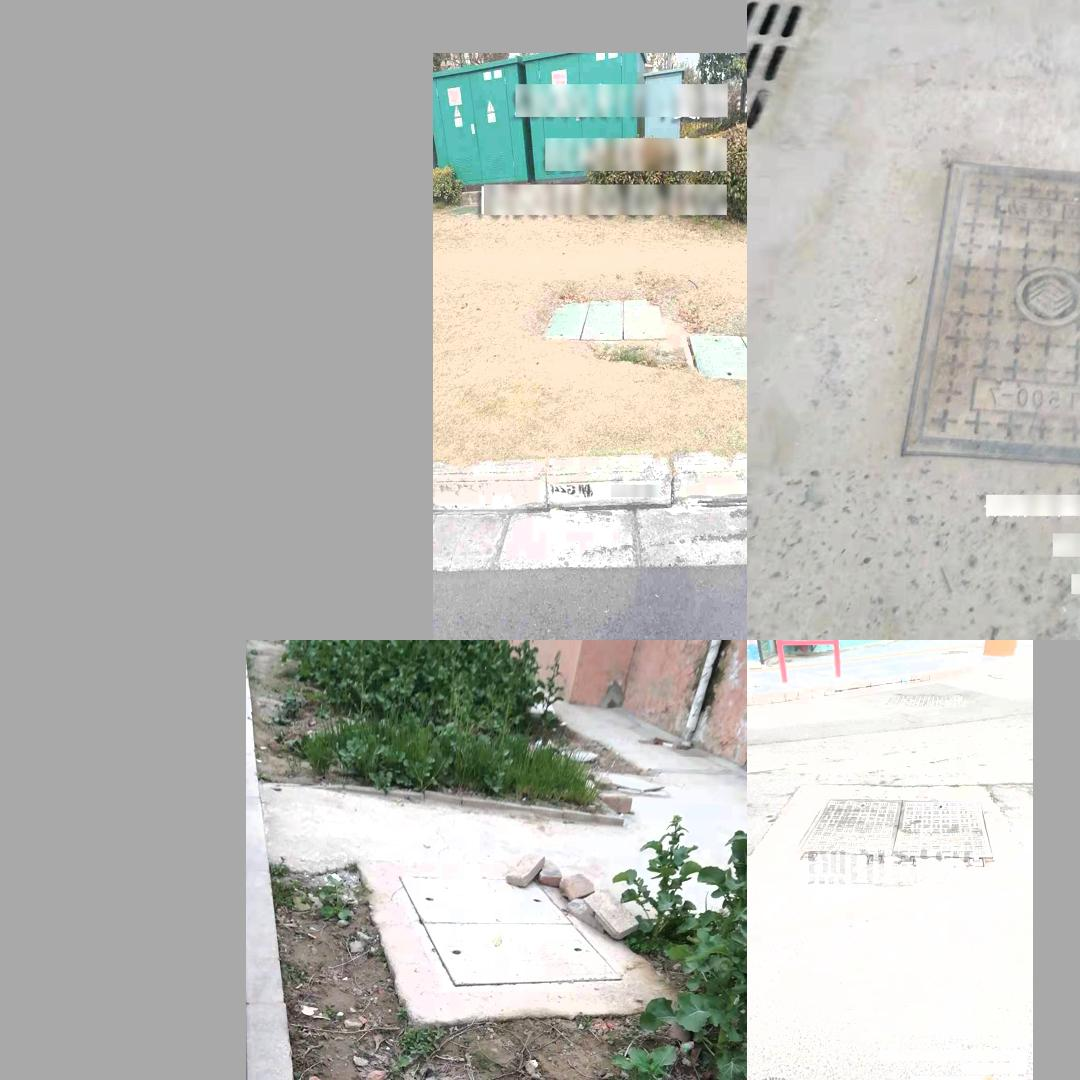good: (902, 159, 1080, 469), (400, 874, 624, 987), (794, 798, 995, 868), (543, 294, 667, 341), (681, 333, 746, 379)
